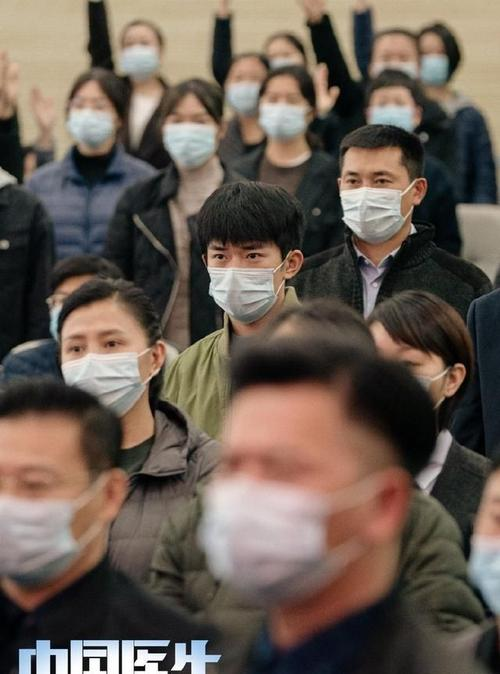mask: (202, 185, 293, 322), (63, 286, 158, 408), (339, 129, 419, 242)
